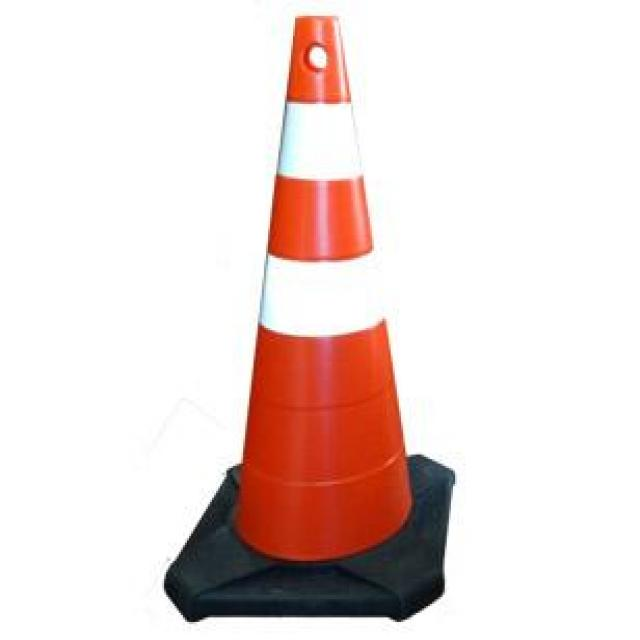cone: (149, 0, 468, 607)
